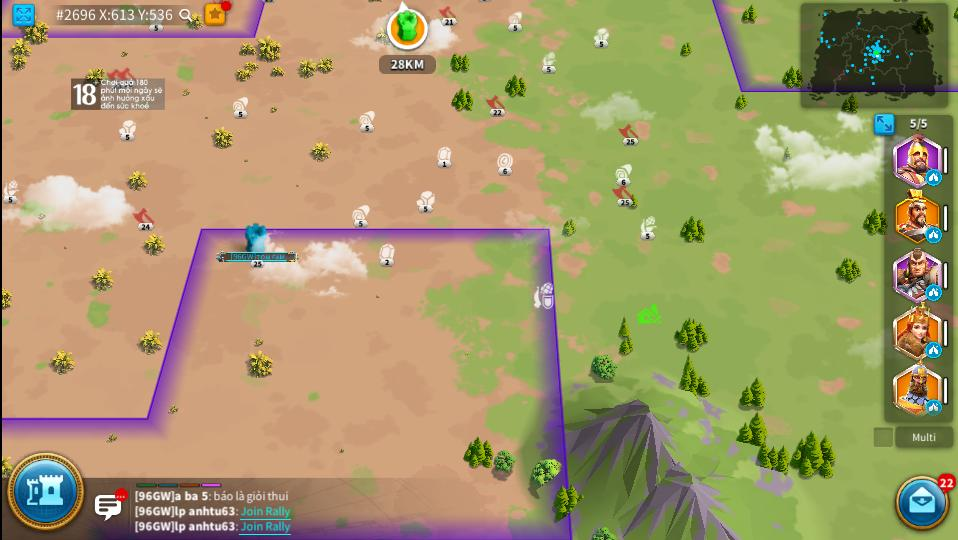gem-z-out: (380, 242, 395, 267), (437, 146, 452, 168)
march_idle: (925, 228, 942, 242), (926, 170, 940, 185), (927, 400, 941, 415), (926, 285, 940, 299), (928, 343, 940, 357)
